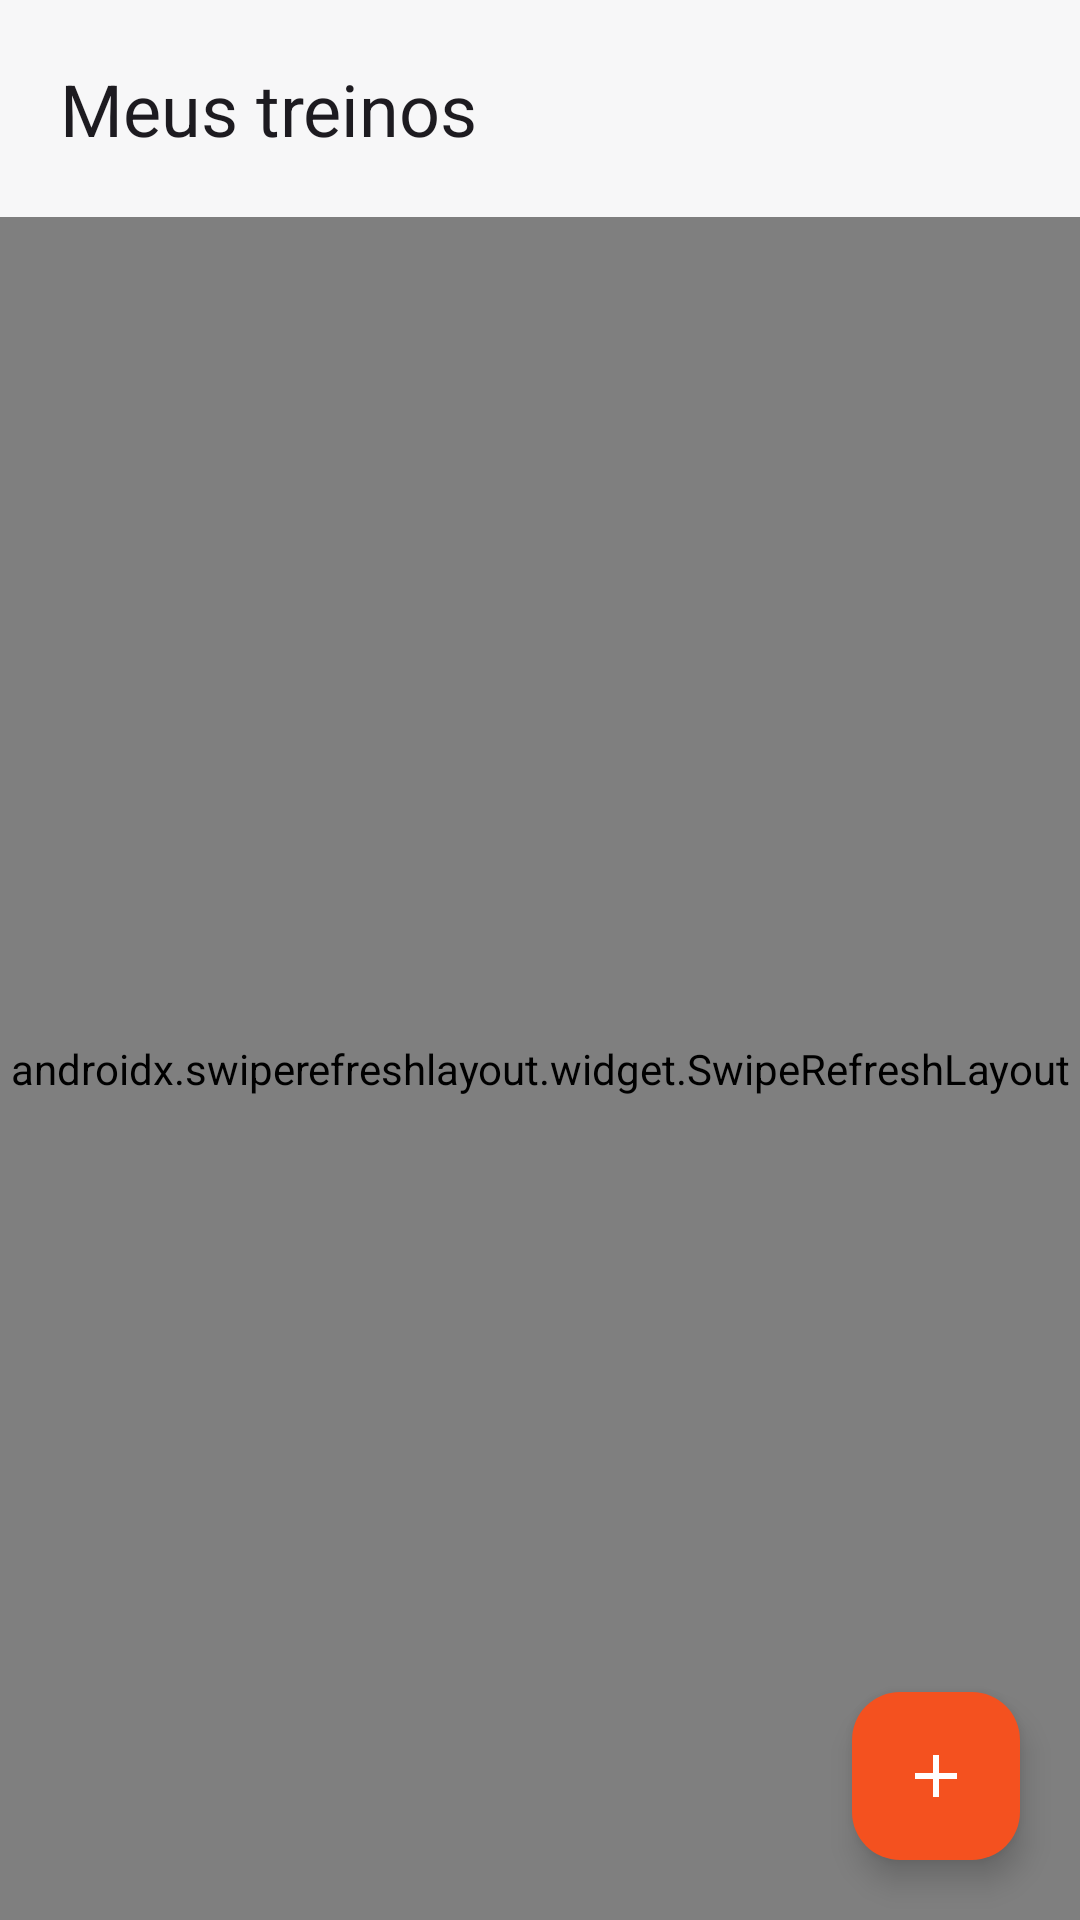

Icons on this 1080×1920 Android screen, each with the point to tap as (x,y):
Novo treino: (936,1776)
